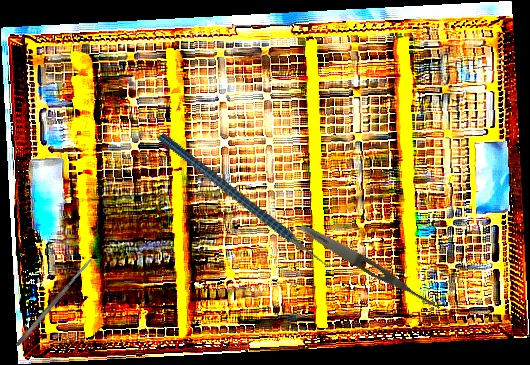Chopper: (156, 87, 348, 315)
Dressing Forceps: (297, 220, 444, 314)
Spatula Surgical: (14, 256, 95, 348)
